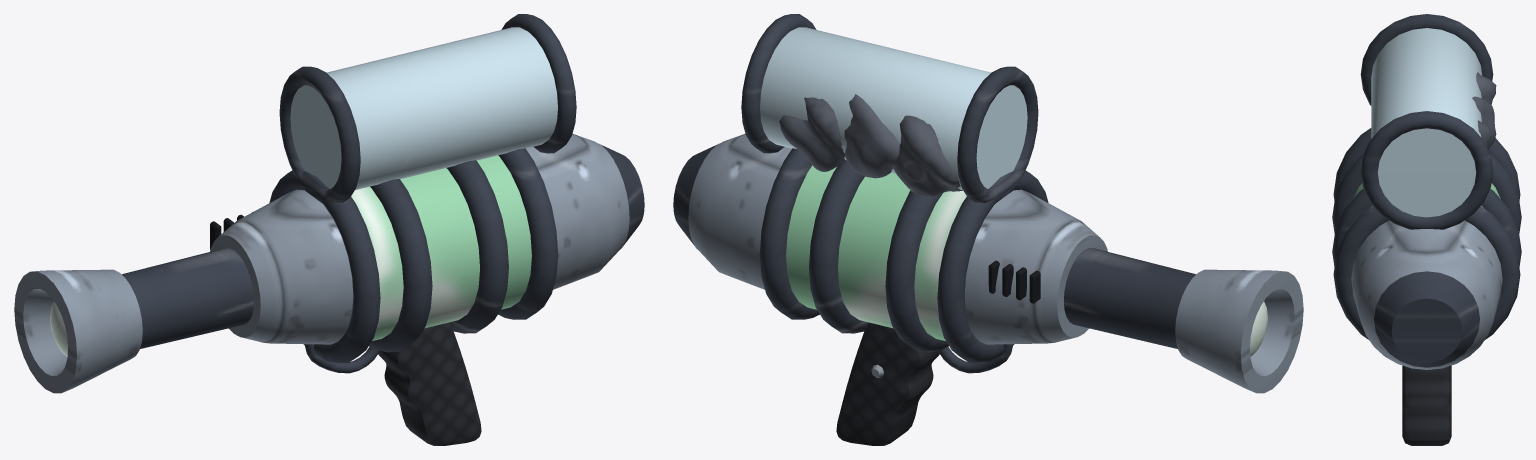
Rendered from GreyGoo.fbx.
3 views of the same model, side by side, from view 1: azimuth 30°, elevation 25°; view 2: azimuth 150°, elevation 25°; view 3: azimuth 270°, elevation 25° (orthographic). The views are drawn at different scales.
Parts seen in each view (by area): view 1: GreyGoo; view 2: GreyGoo; view 3: GreyGoo.
Part boxes in pixels (x1=…): GreyGoo: x1=14, y1=14, x2=644, y2=445; GreyGoo: x1=673, y1=14, x2=1303, y2=445; GreyGoo: x1=1332, y1=14, x2=1521, y2=445.
Size of the model in its own units: 0.94 by 0.6175 by 0.2888.
Materials: 8 (8 with a texture image).
